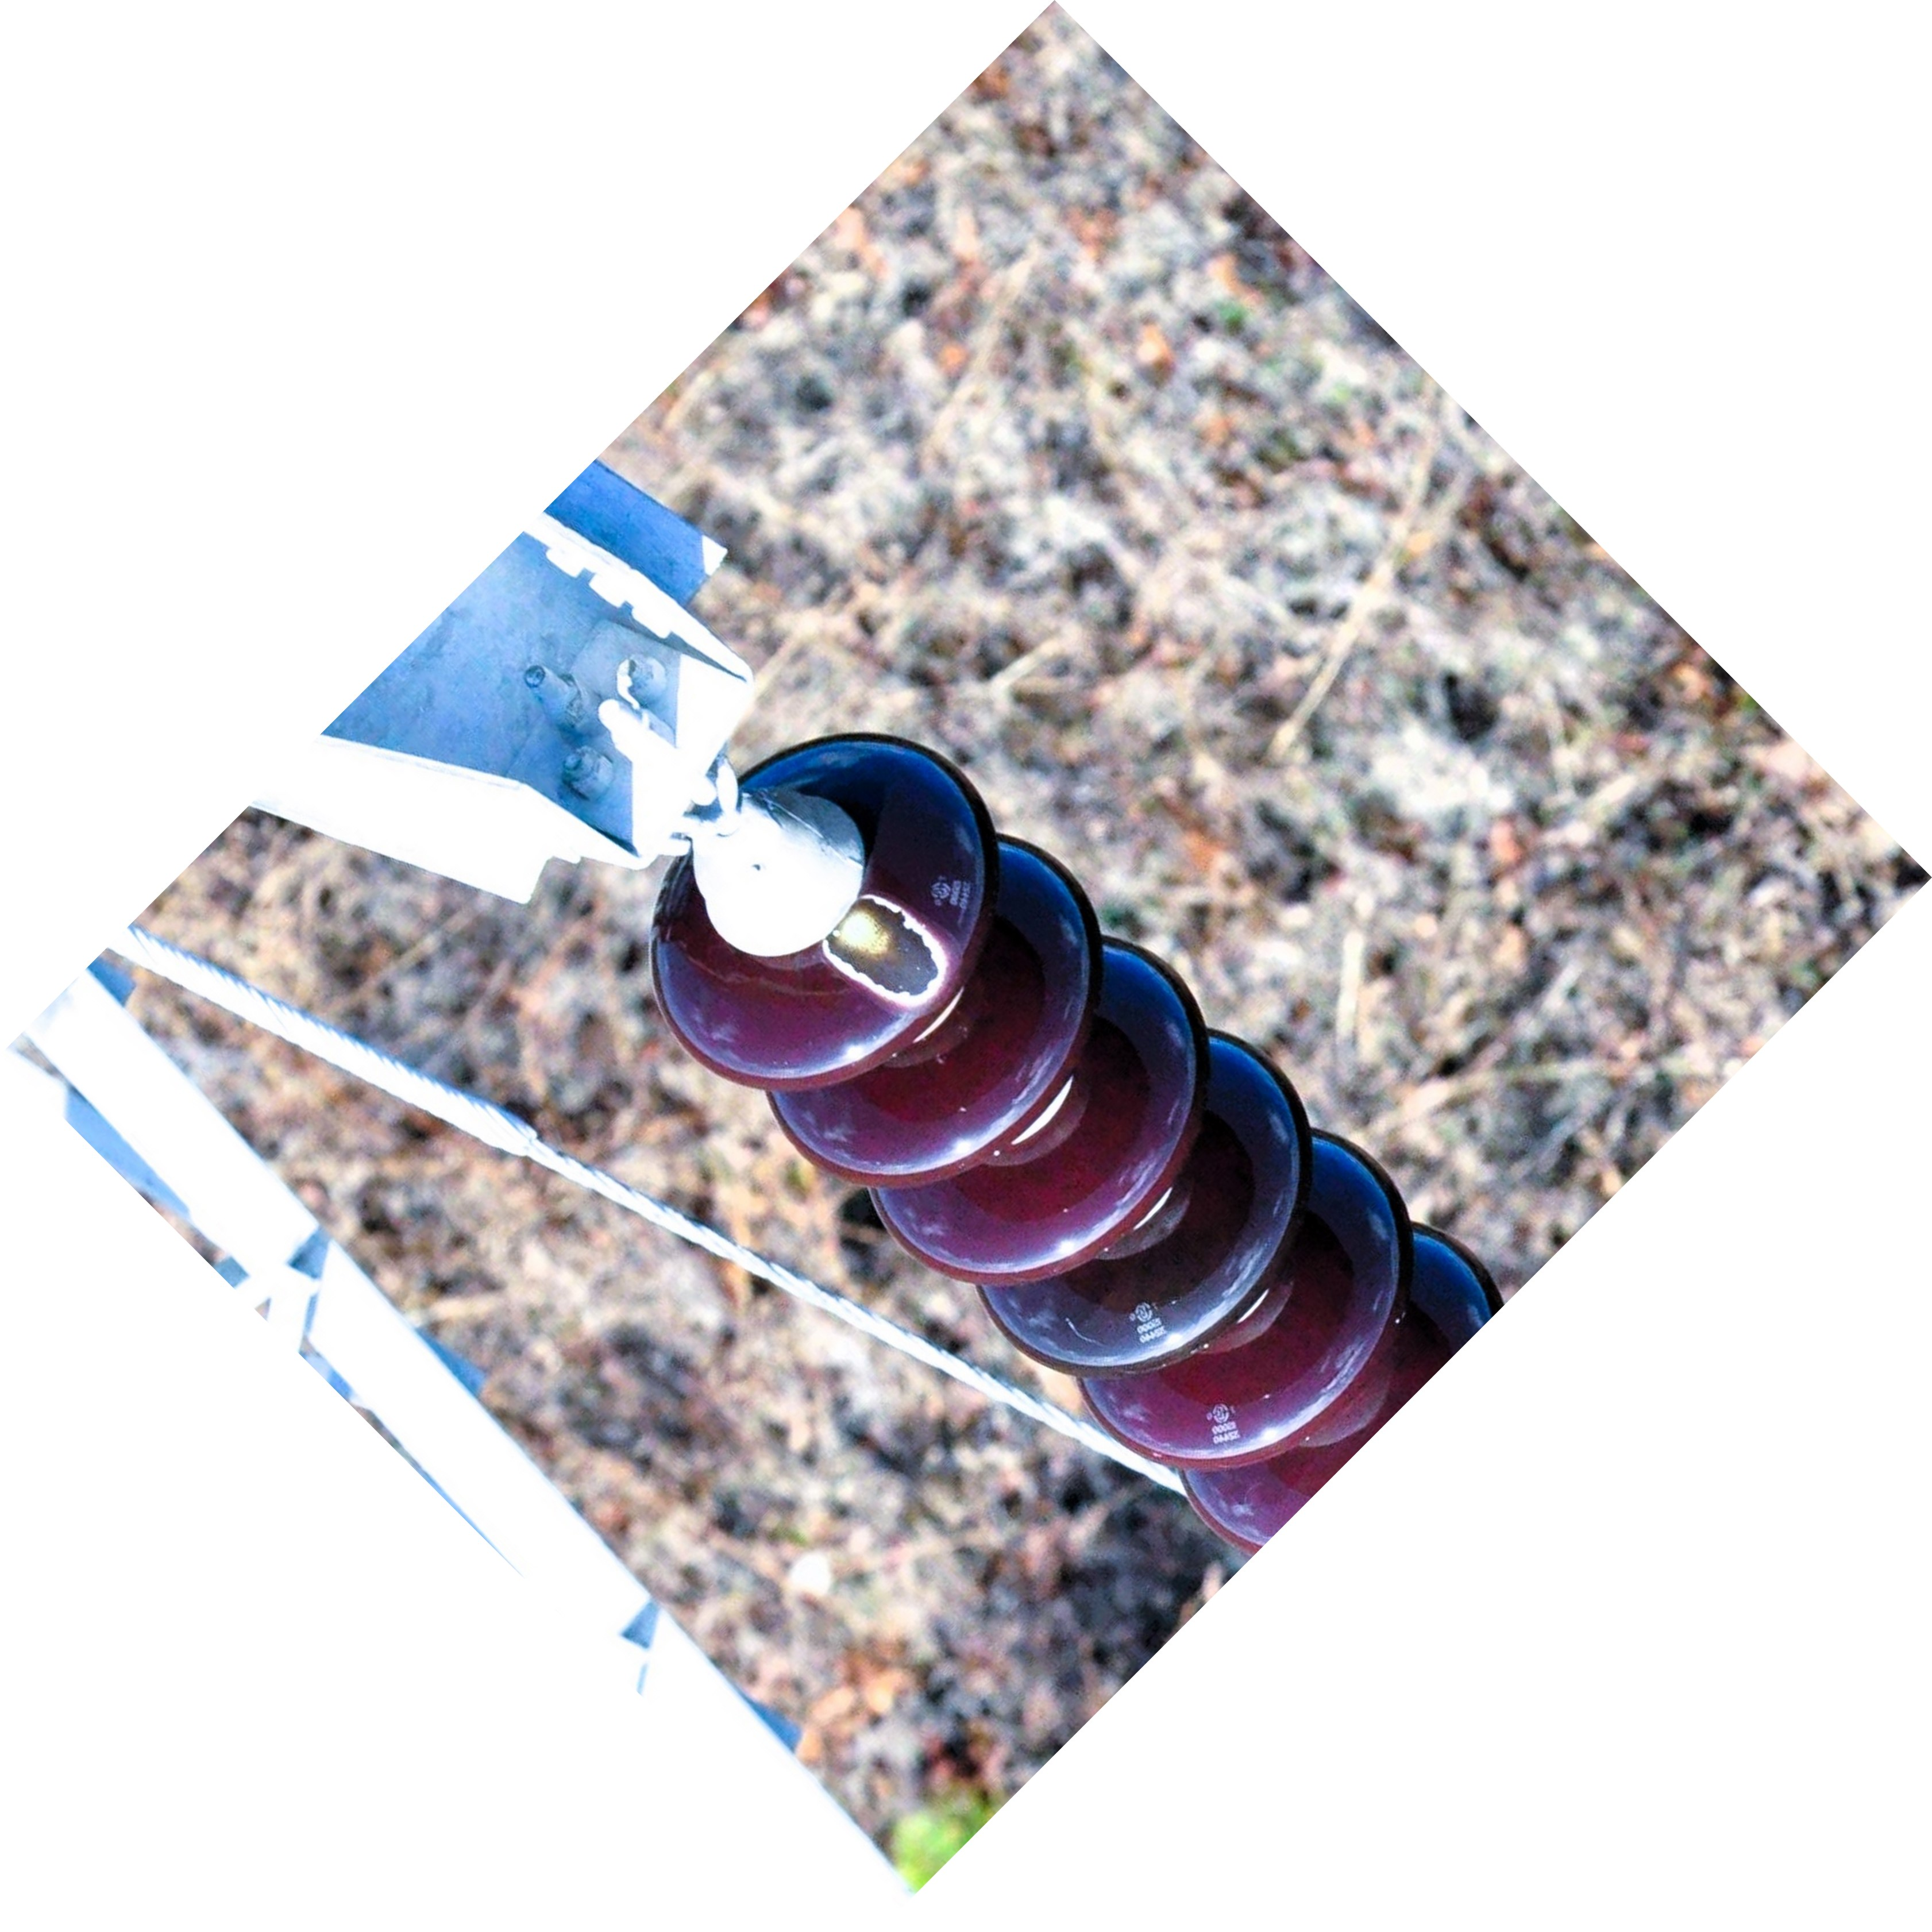Insulator flashover: (644, 724, 1005, 1099)
